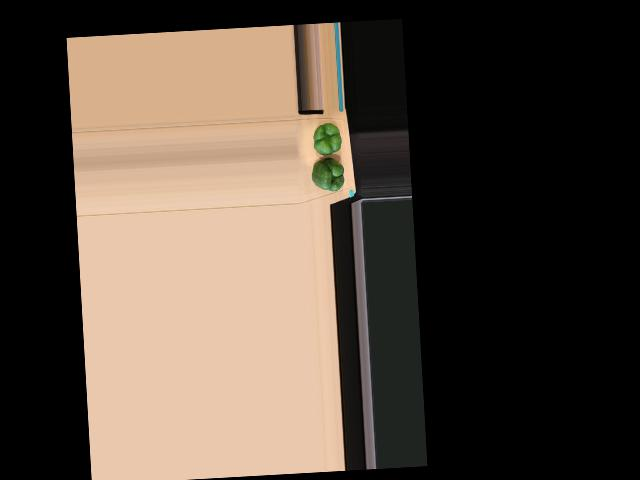bell_pepper: (308, 123, 342, 157)
